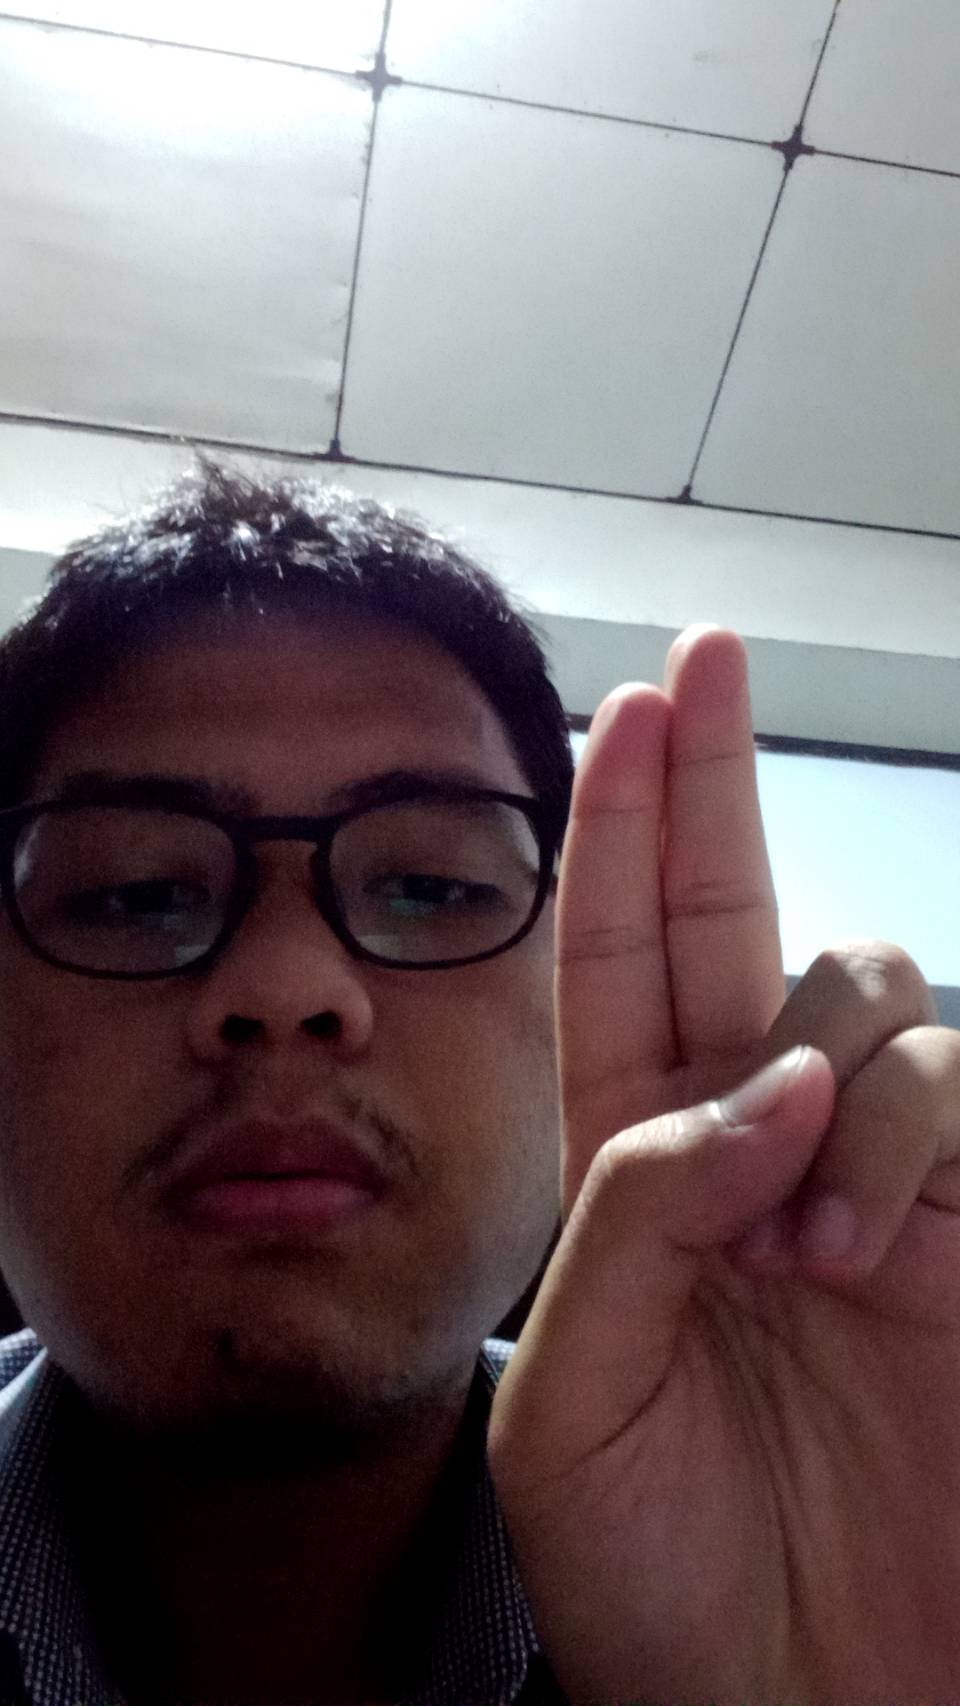U: (504, 591, 960, 1706)
